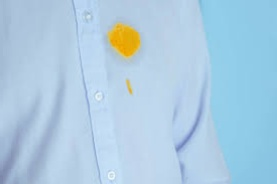mustard: (111, 25, 143, 53), (125, 78, 134, 95)
